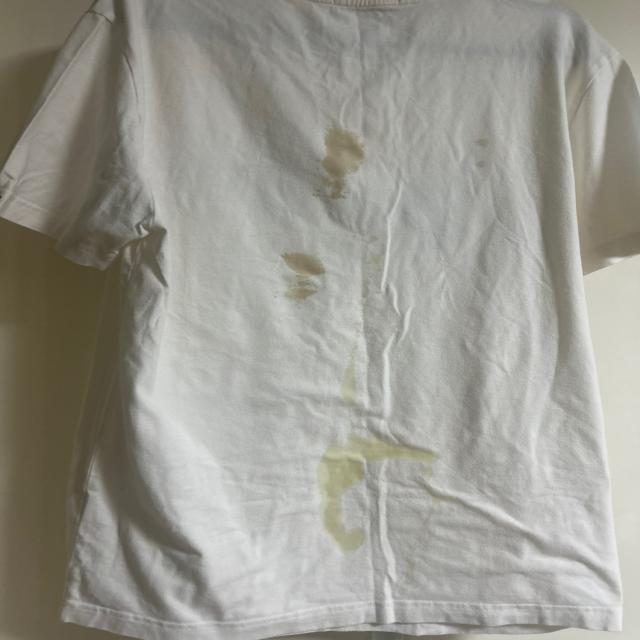stain: (312, 423, 441, 483), (310, 484, 374, 550), (329, 118, 376, 202), (282, 250, 329, 304), (351, 237, 382, 299), (347, 346, 370, 396), (469, 134, 494, 170)
